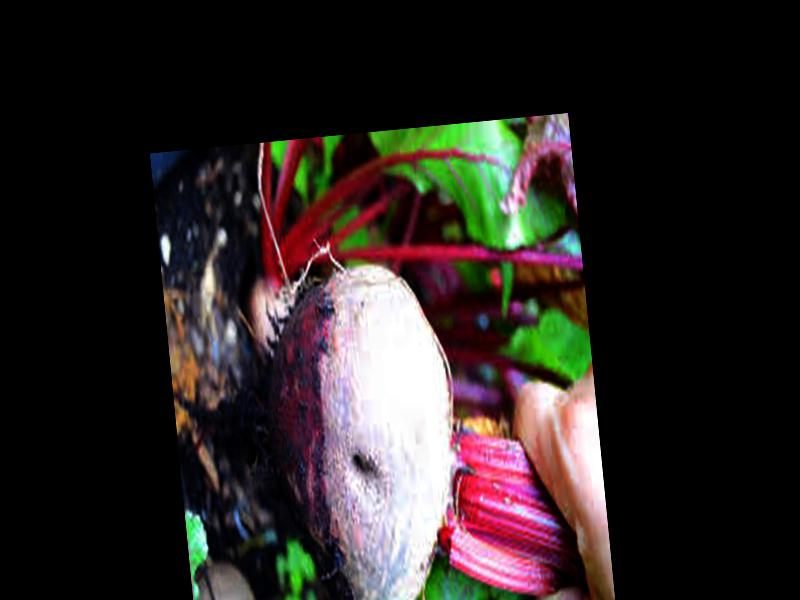Beet: (161, 243, 587, 600)
